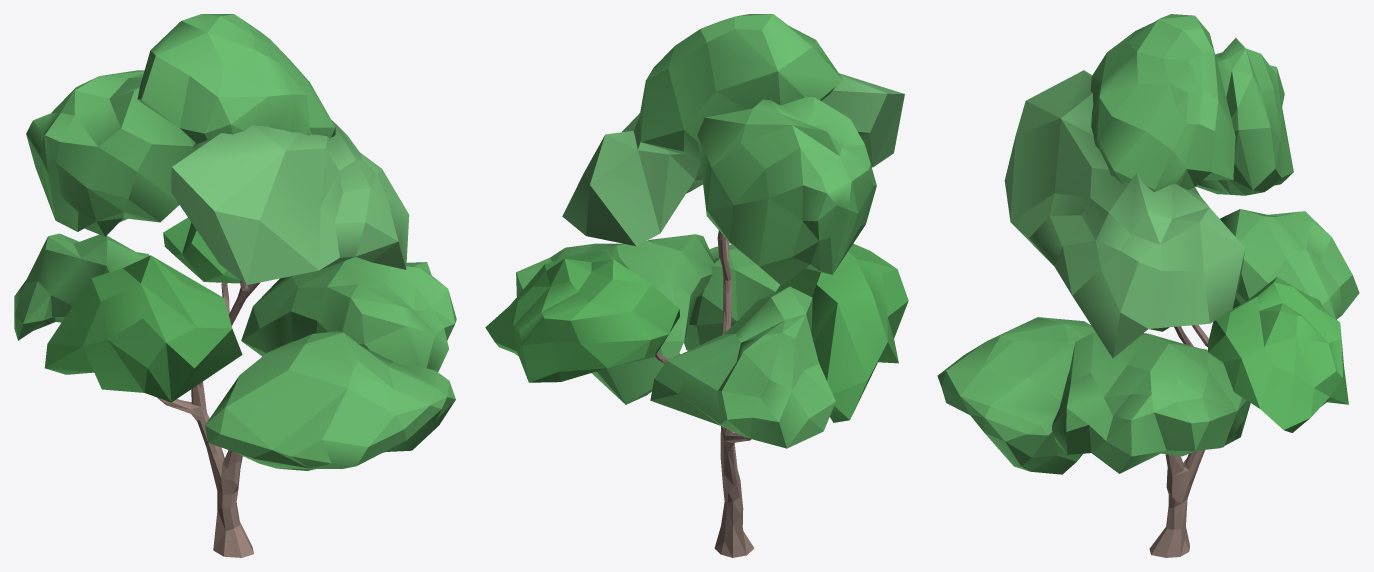
File: tree_007.glb
3 renders of one model, left to right at view 1: azimuth 30°, elevation 25°; view 2: azimuth 150°, elevation 25°; view 3: azimuth 270°, elevation 25°, orthographic. The views are drawn at different scales.
Parts seen in each view (by area): view 1: tree_007; view 2: tree_007; view 3: tree_007.
Part boxes in pixels (x1,y1,x2,y2): tree_007: [14, 14, 456, 557]; tree_007: [485, 14, 908, 557]; tree_007: [937, 14, 1359, 557].
Size of the model in its own units: 5.13 by 7.12 by 5.28.
Materials: 1 (1 with a texture image).
